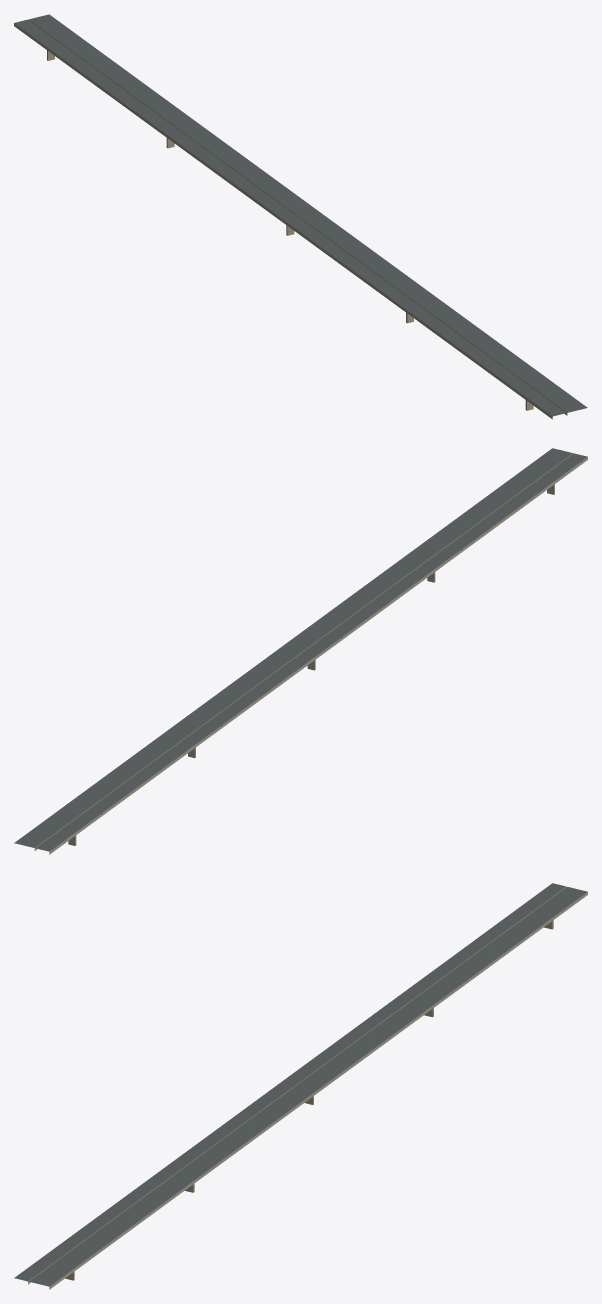
File: m2_chenab_bridge_far.glb
The picture shows the model from 3 angles, top to bottom: view 1: azimuth 30°, elevation 25°; view 2: azimuth 150°, elevation 25°; view 3: azimuth 330°, elevation 25°; orthographic projection.
Visible parts, largest first — view 1: m_asphalt, m_deck_concrete; view 2: m_asphalt, m_deck_concrete; view 3: m_asphalt, m_deck_concrete.
Part boxes in pixels (x1,y1,x2,y2): m_asphalt: (14, 14, 587, 416); m_deck_concrete: (14, 19, 567, 419); m_asphalt: (14, 448, 587, 851); m_deck_concrete: (34, 453, 587, 854); m_asphalt: (14, 883, 587, 1286); m_deck_concrete: (28, 886, 587, 1289).
Bounding box in the file's own units: 36.28 × 16.03 × 936.
